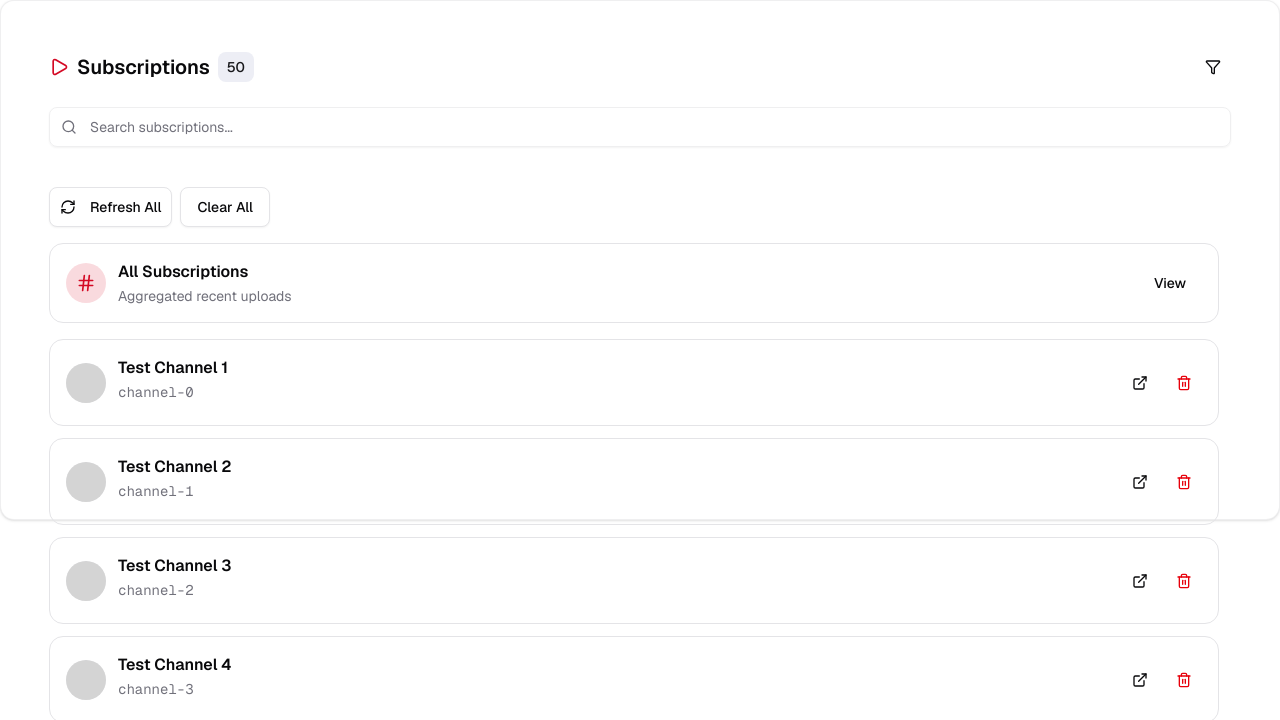
Subscription List Scrolling › SubscriptionList (Enhanced) › handles search functionality
Note: Search for a specific channel
Type "Test Channel 5" into the field with placeholder "Search subscriptions..." at (640, 127), box [49, 107, 1231, 147]
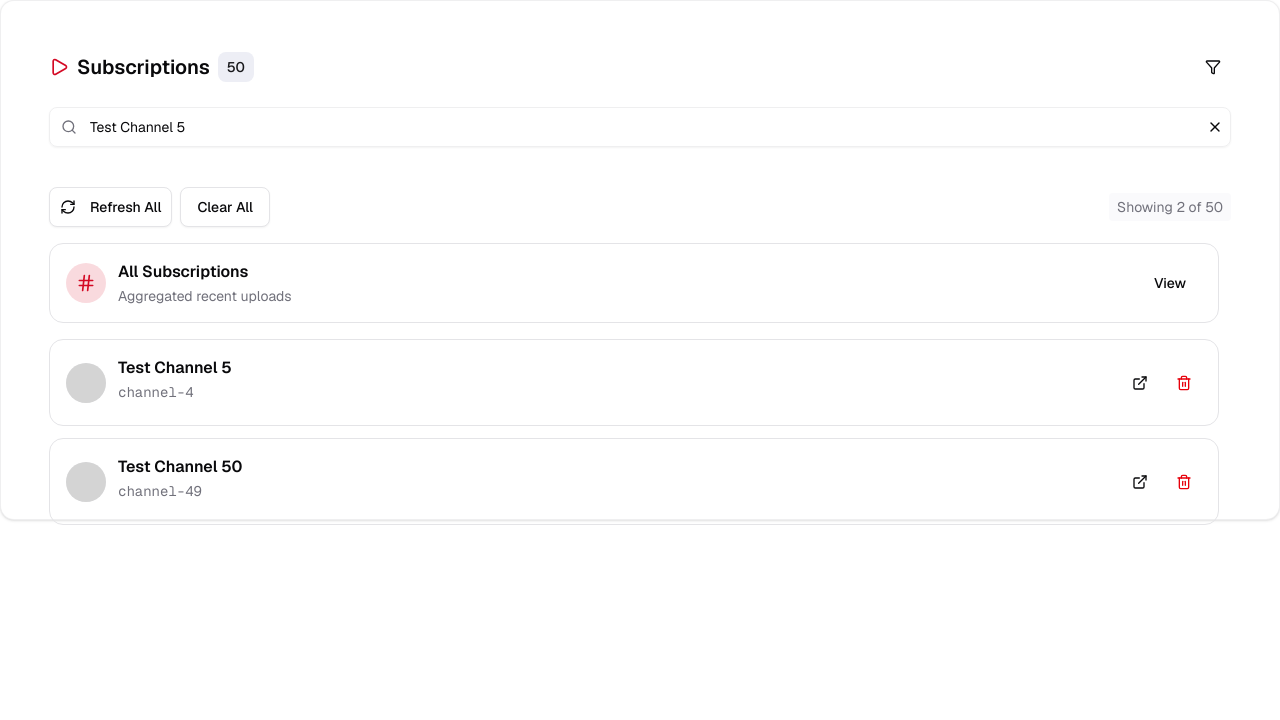
Check: the text "Test Channel 5" is shown, box [118, 357, 232, 378]
Check: the button "Test Channel 1" is gone
